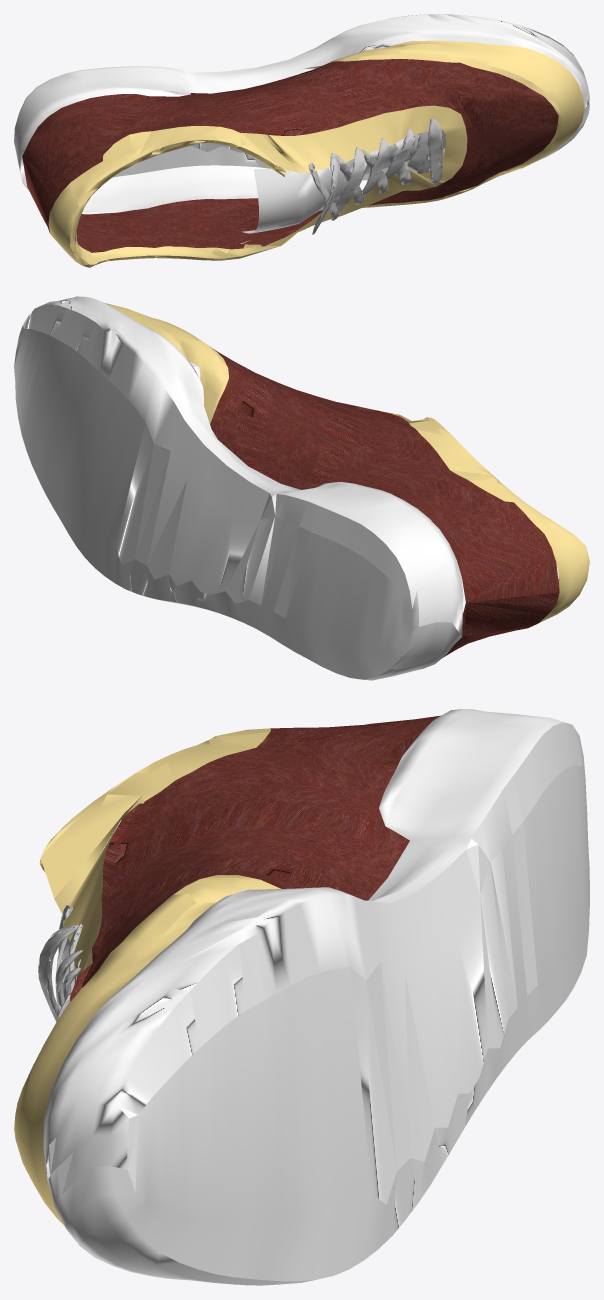
3 renders of one model, top to bottom at view 1: azimuth 30°, elevation 25°; view 2: azimuth 150°, elevation 25°; view 3: azimuth 270°, elevation 25°, orthographic. The views are drawn at different scales.
Parts seen in each view (by area): view 1: 02_-_Default, 07_-_Default, 01_-_Default, 03_-_Default; view 2: 07_-_Default, 02_-_Default, 01_-_Default; view 3: 07_-_Default, 02_-_Default, 01_-_Default, 03_-_Default.
Part boxes in pixels (x1=…): 02_-_Default: x1=22, y1=59, x2=558, y2=252; 07_-_Default: x1=14, y1=14, x2=589, y2=233; 01_-_Default: x1=48, y1=40, x2=584, y2=267; 03_-_Default: x1=308, y1=118, x2=443, y2=234; 07_-_Default: x1=14, y1=296, x2=463, y2=680; 02_-_Default: x1=210, y1=348, x2=559, y2=657; 01_-_Default: x1=105, y1=303, x2=589, y2=622; 07_-_Default: x1=43, y1=709, x2=589, y2=1285; 02_-_Default: x1=70, y1=715, x2=440, y2=1001; 01_-_Default: x1=14, y1=728, x2=280, y2=1224; 03_-_Default: x1=38, y1=905, x2=83, y2=1021.
Size of the model in its own units: 324 by 117 by 164.
